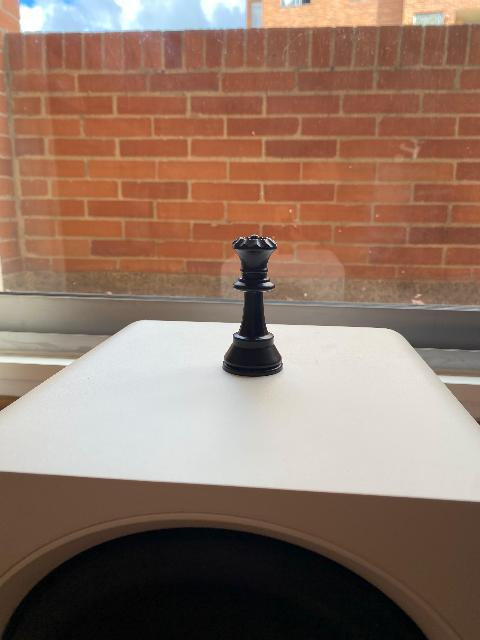black-queen: (221, 234, 283, 376)
